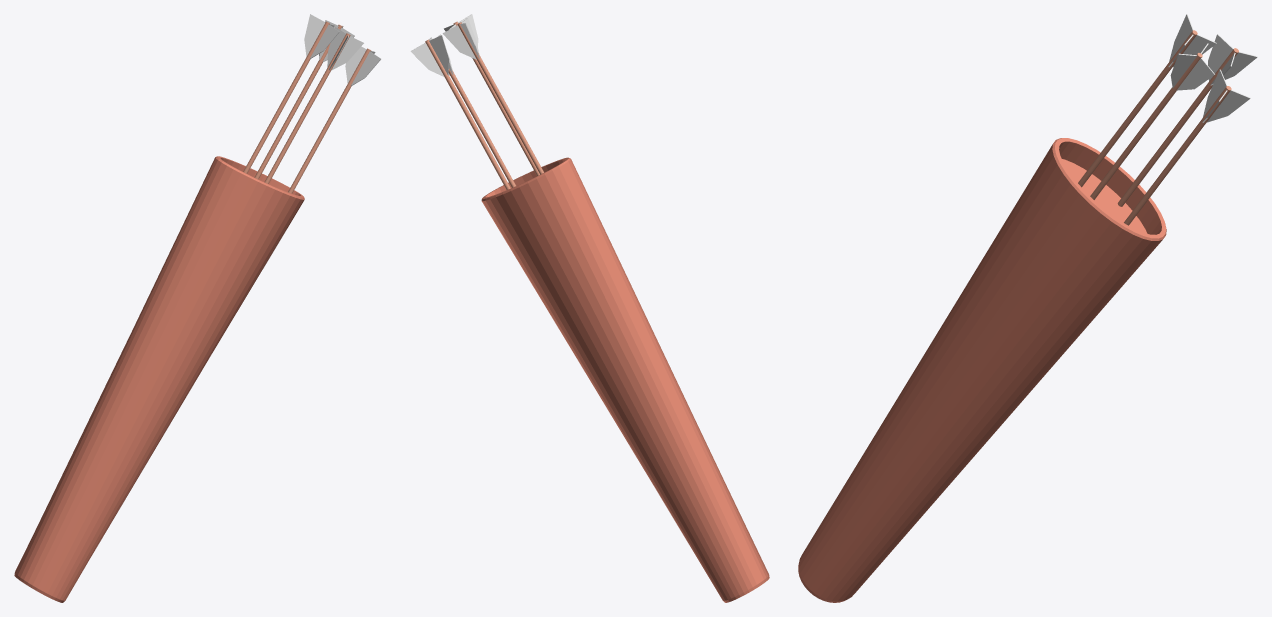
The model's file is Mr Quiver.fbx.
The picture shows the model from 3 angles, left to right: view 1: azimuth 30°, elevation 25°; view 2: azimuth 150°, elevation 25°; view 3: azimuth 330°, elevation 25°; orthographic projection. The views are drawn at different scales.
Parts seen in each view (by area): view 1: Arrow.001; view 2: Arrow.001; view 3: Arrow.001.
Boxes of the visible parts, left/top/right/bottom form: Arrow.001: left=14, top=14, right=380, bottom=602; Arrow.001: left=410, top=14, right=769, bottom=602; Arrow.001: left=798, top=14, right=1257, bottom=602.
Bounding box in the file's own units: 78.37 × 110 × 13.17.
